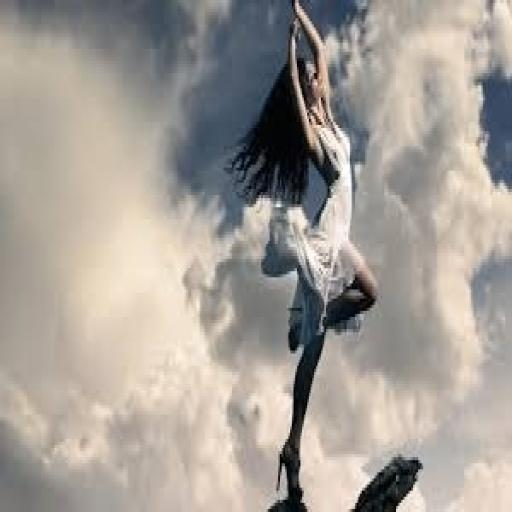dancing: (229, 4, 421, 483)
